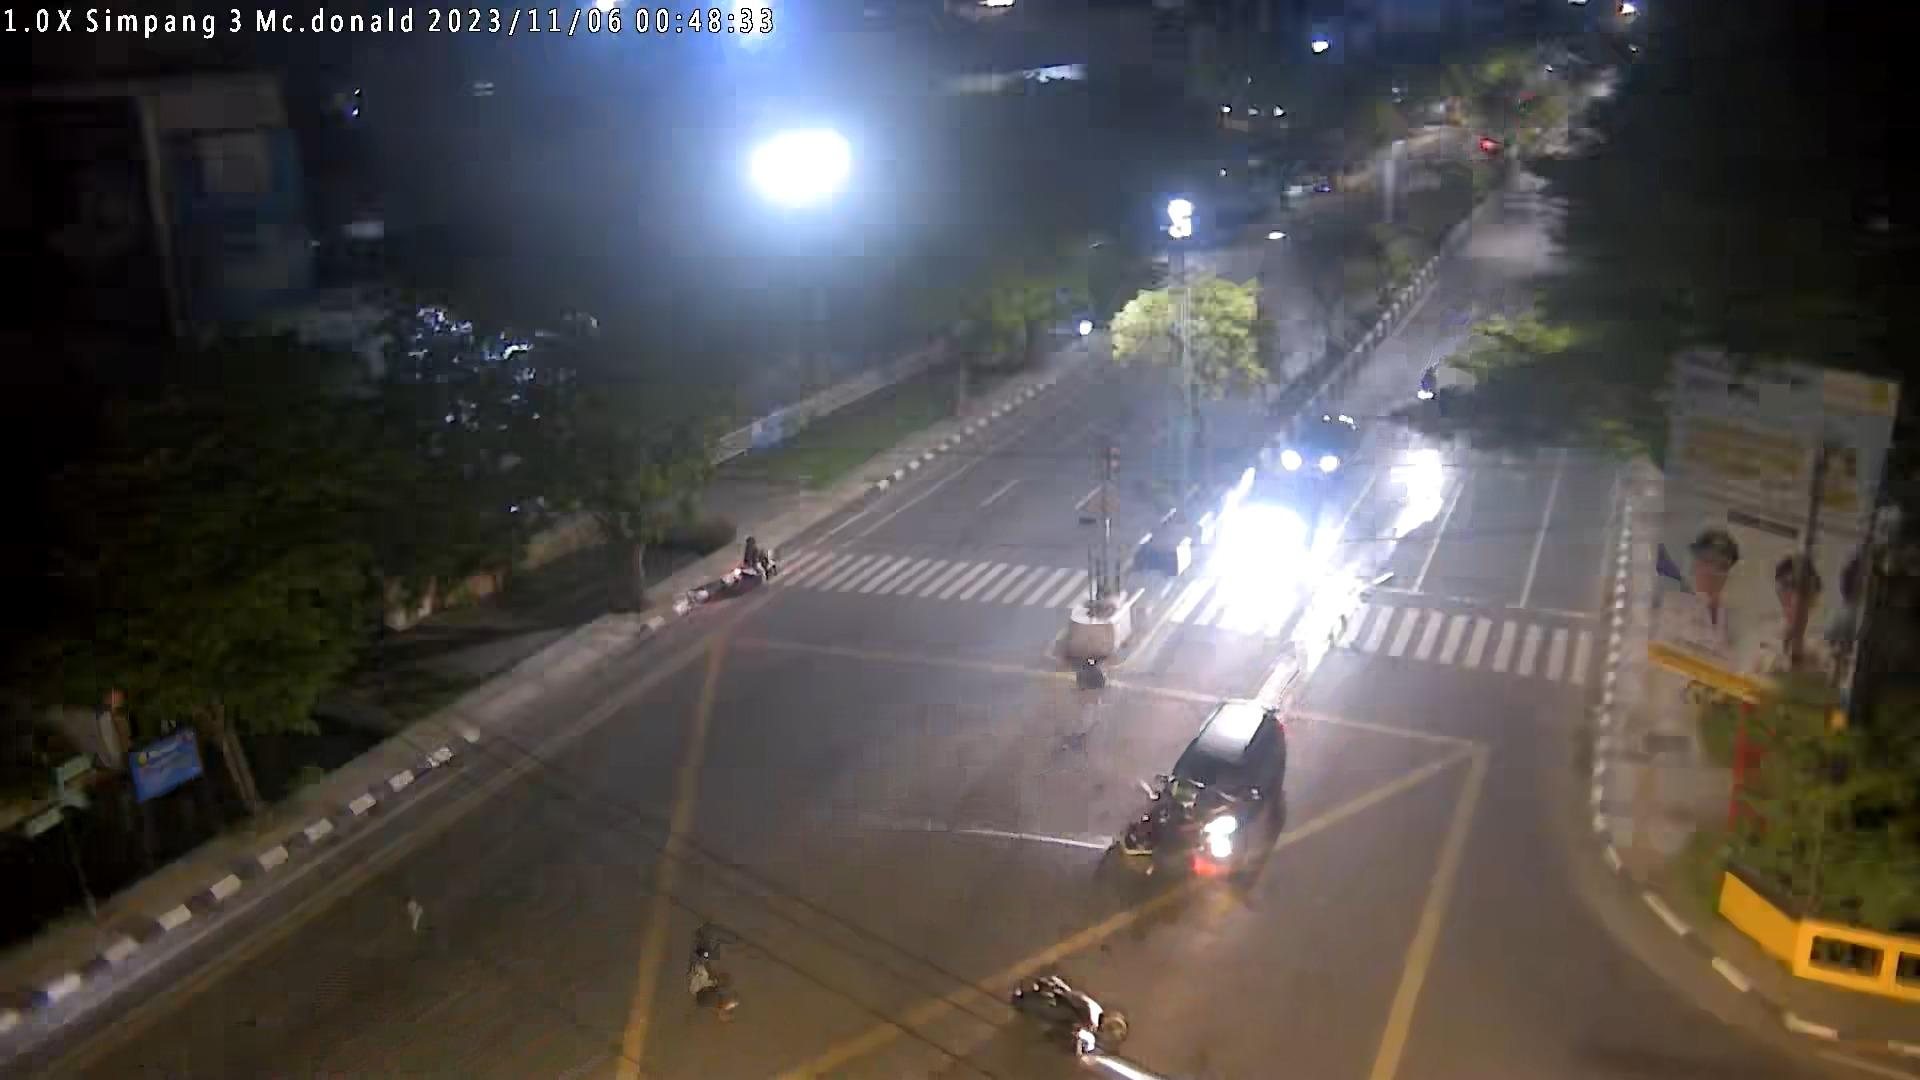accident: (686, 947, 740, 1023)
